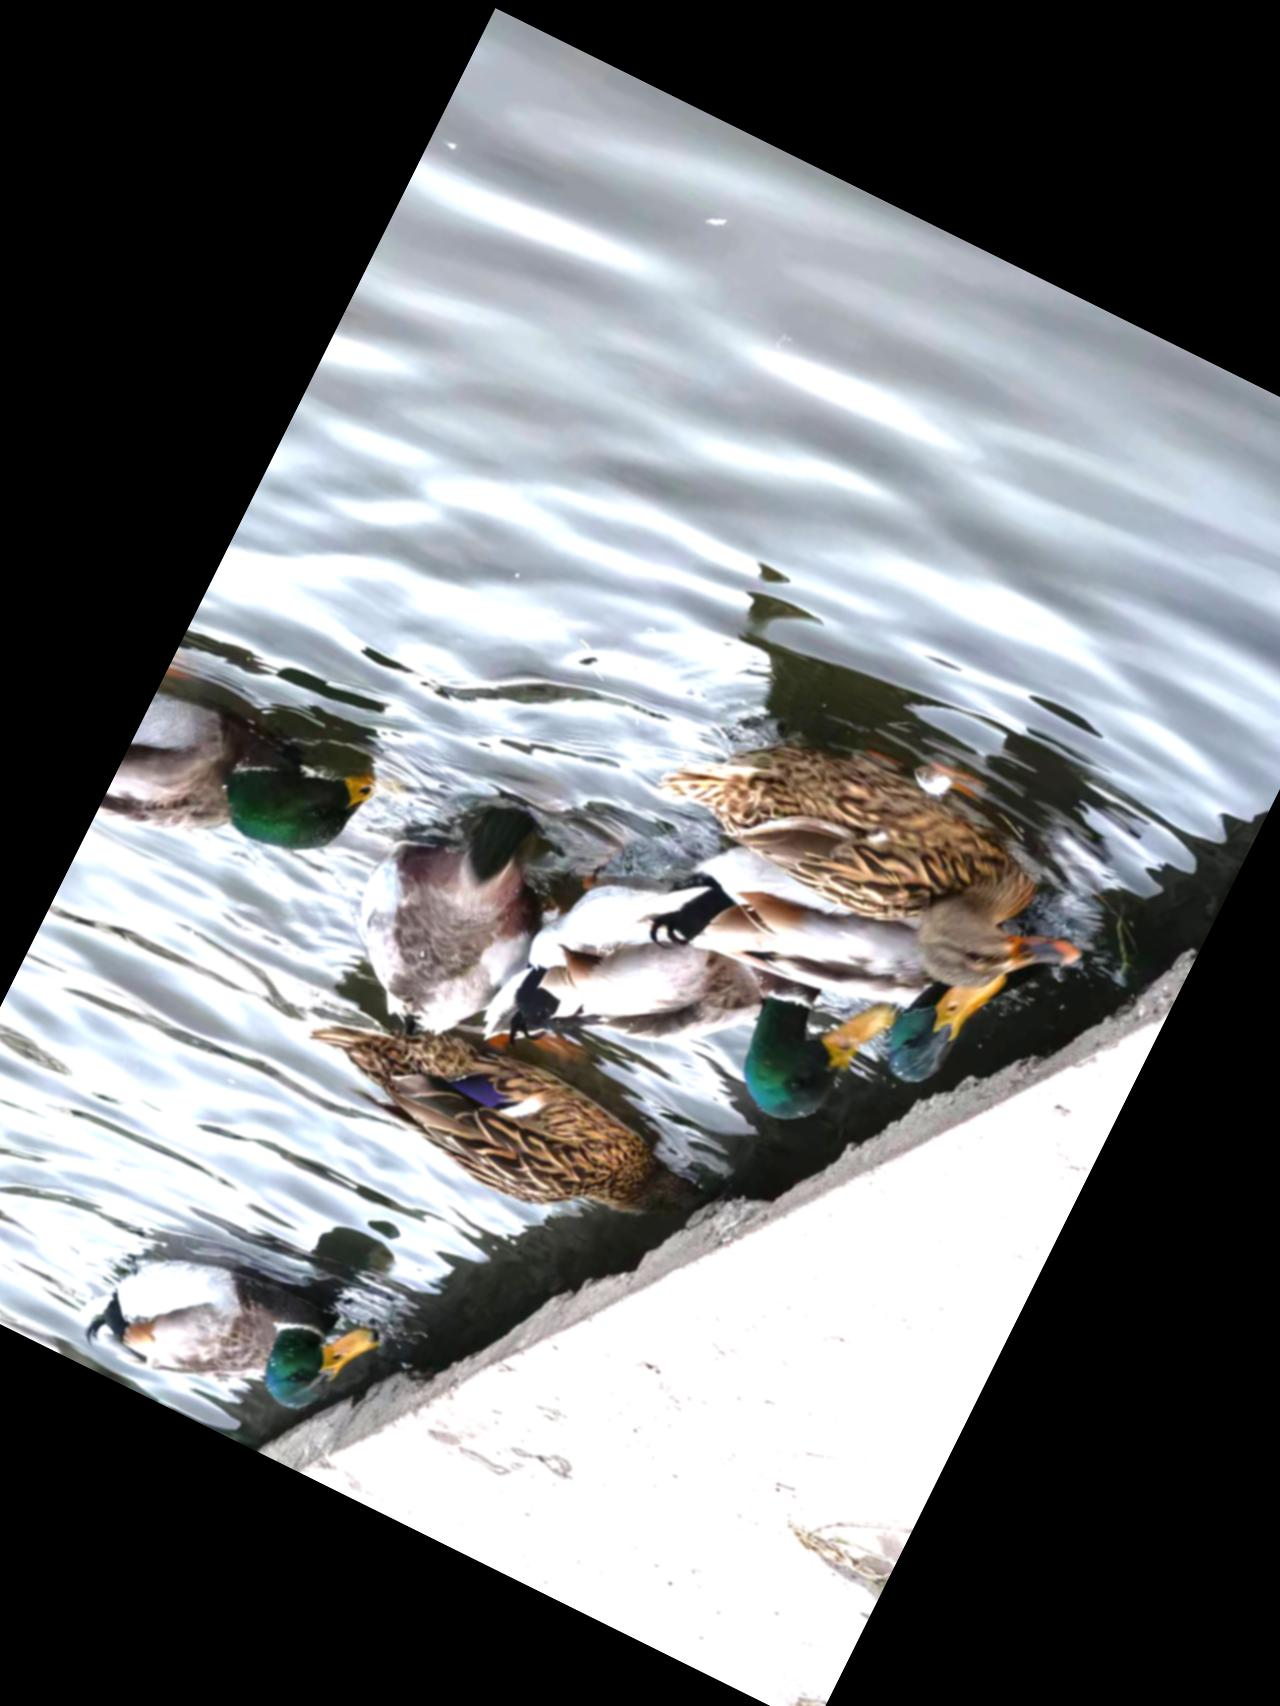duck: (235, 949, 721, 1287), (631, 679, 1104, 1022), (467, 817, 898, 1166), (606, 790, 1026, 1117), (43, 1157, 419, 1473), (93, 669, 402, 932), (309, 774, 581, 1063)
